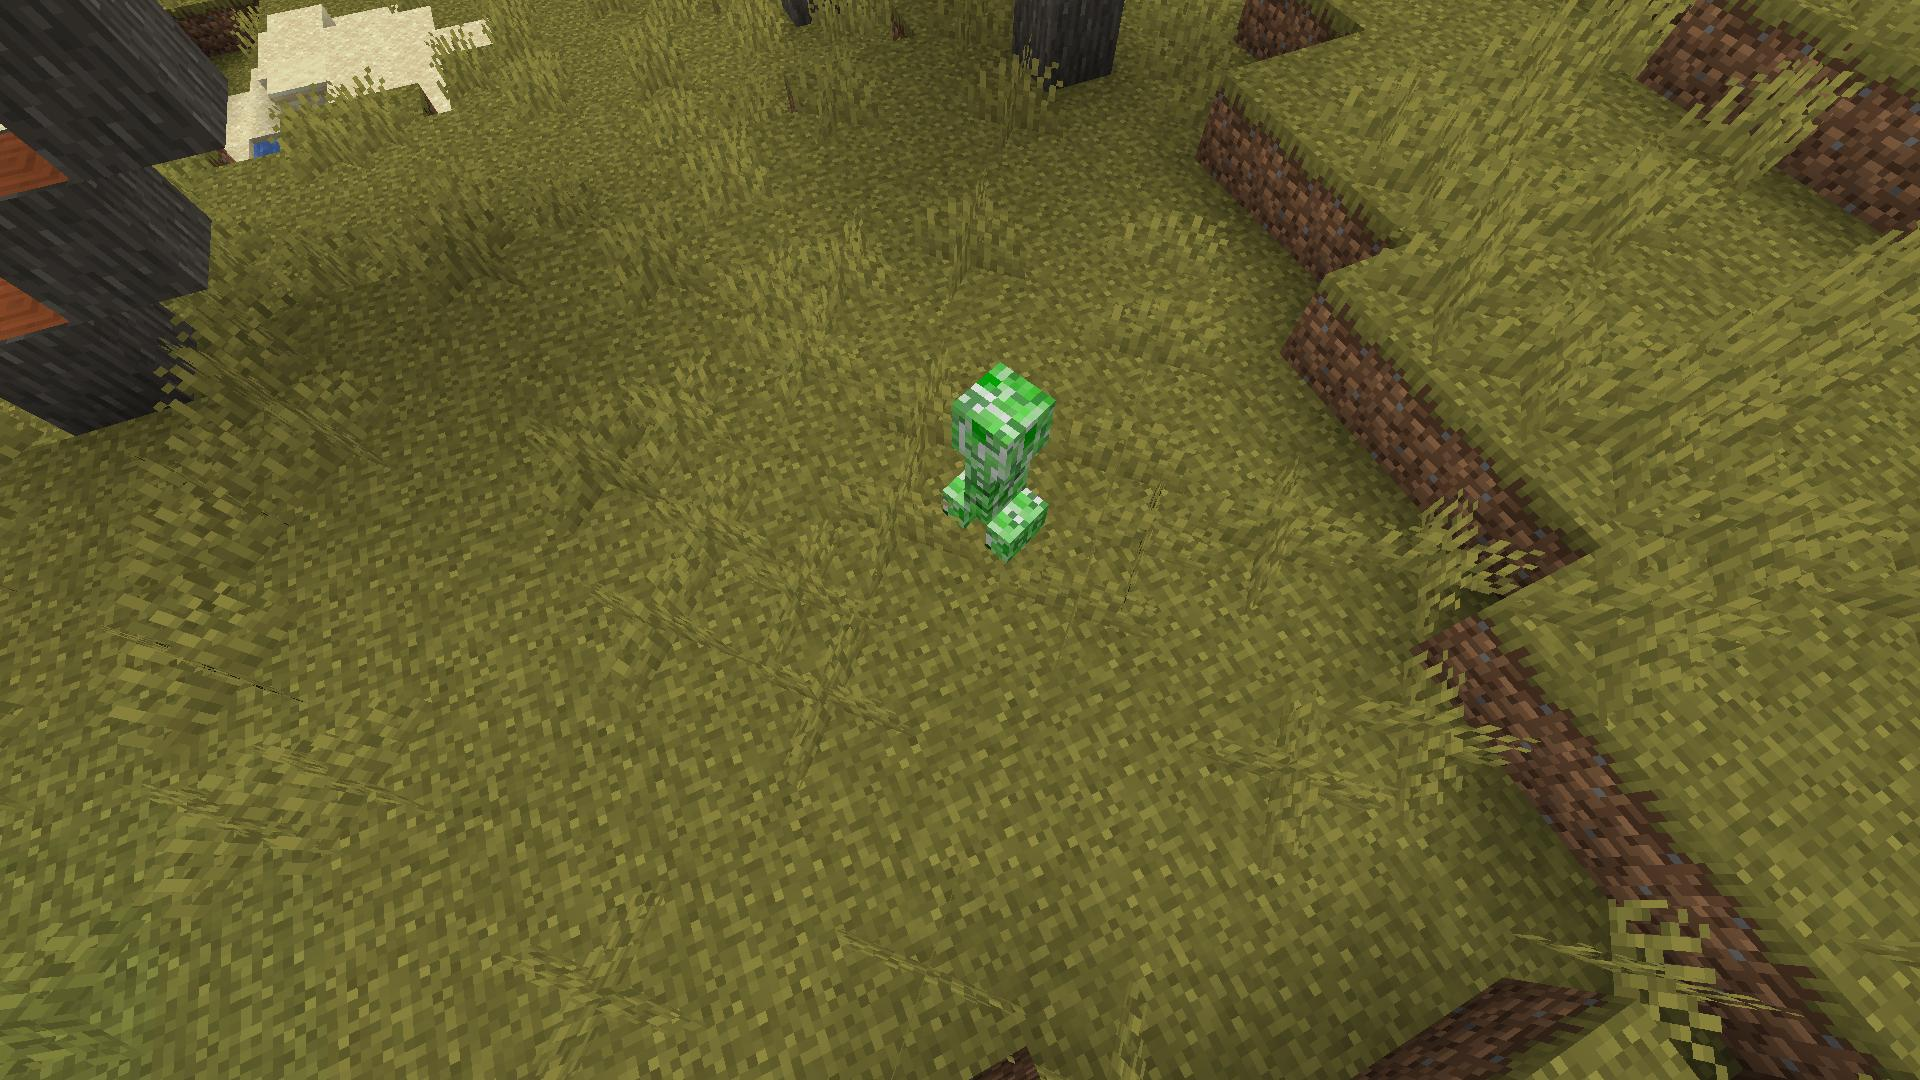creeper: (939, 355, 1059, 568)
